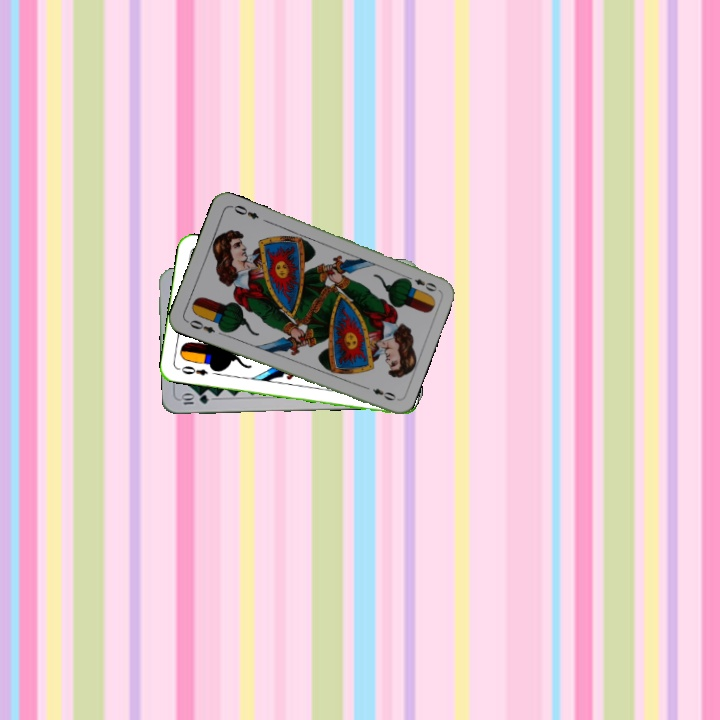EO: (401, 272, 440, 294), (182, 316, 217, 336), (174, 362, 210, 378)
G10: (177, 391, 212, 407)
